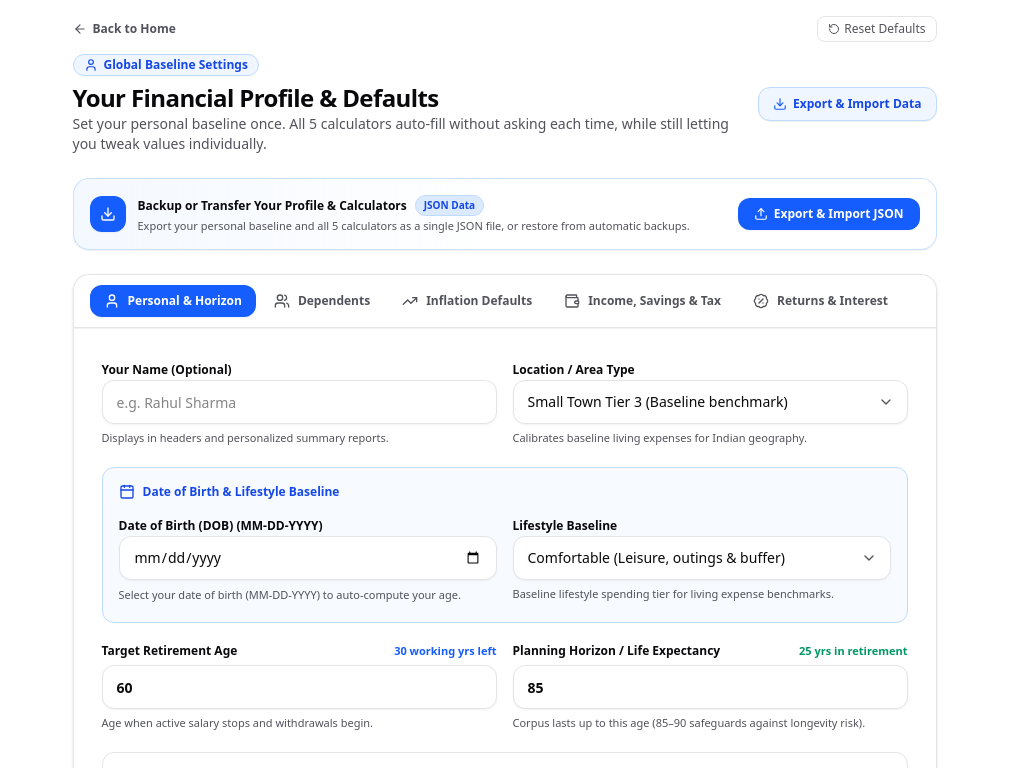
it: ProfilePage Tab Navigation and Sticky Tabs › allows jumping to tabs directly via the sticky tab buttons
Click the button "Returns & Interest" at {"x": 820, "y": 301}, box 739,285 -> 902,317
(page scrolled)
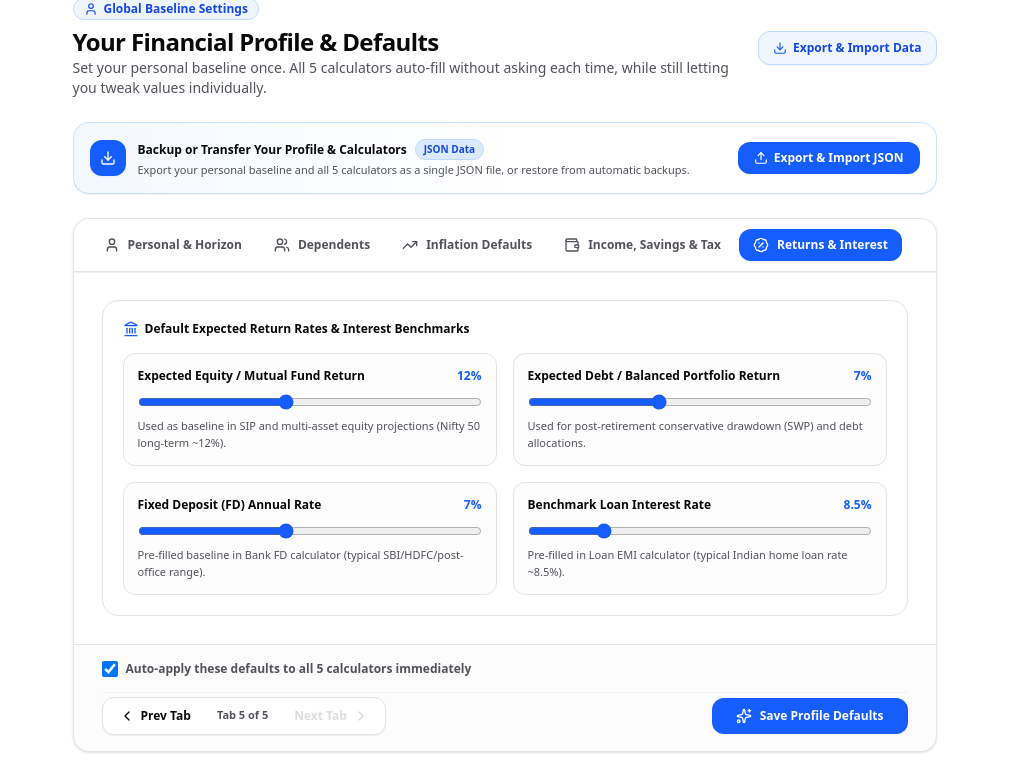
Check: the text "Tab 5 of 5" is shown, box 217,707 -> 268,722
Check: the text "Expected Equity / Mutual Fund Return" is shown, box 138,368 -> 365,384
Check: the button "Next Tab" is disabled, box 282,702 -> 381,730
